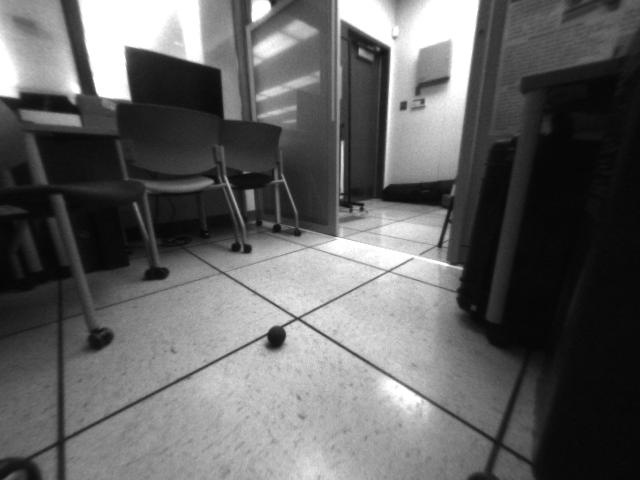dogtoy: (258, 318, 292, 354)
